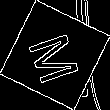M_E: (24, 25, 86, 85)
